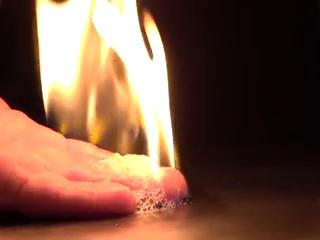Fire: (36, 1, 178, 194)
